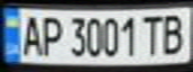0: (84, 14, 103, 58), (103, 14, 121, 57)
1: (118, 14, 142, 57)
3: (63, 14, 87, 57)
A: (15, 12, 45, 57)
B: (157, 11, 190, 56)
P: (36, 12, 63, 57)
T: (139, 11, 166, 56)
